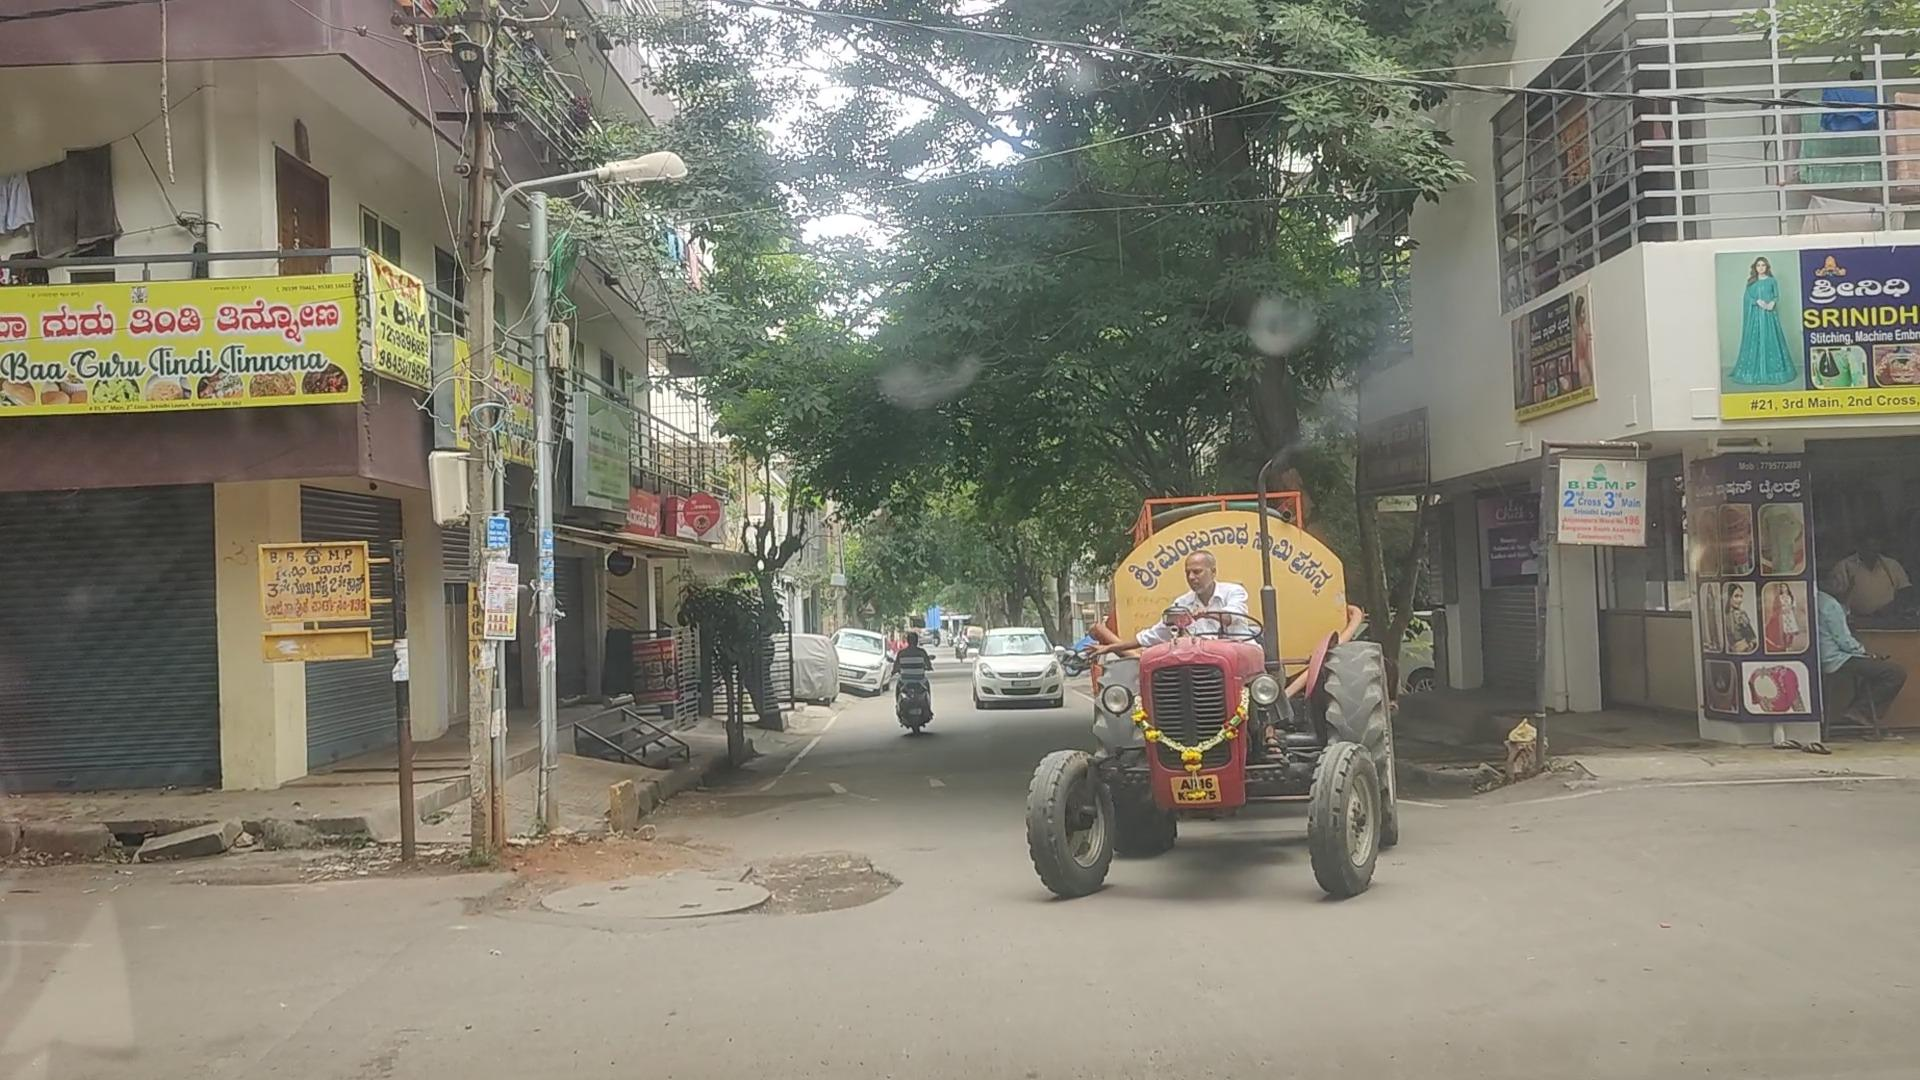HMV: (1042, 497, 1390, 898)
RoadDamages: (562, 853, 919, 943)
